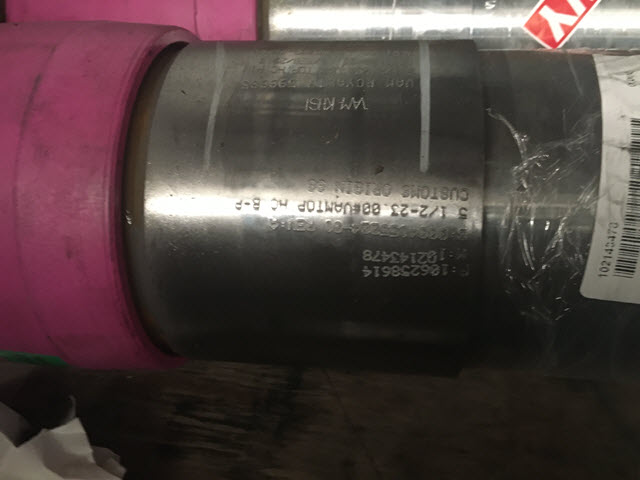character: (408, 262, 421, 280), (418, 203, 431, 221), (456, 205, 470, 221), (360, 264, 373, 281), (428, 262, 441, 279), (389, 247, 401, 265), (458, 185, 470, 203), (361, 247, 373, 264), (419, 183, 431, 200), (351, 200, 362, 218), (450, 185, 461, 203), (430, 185, 441, 203), (370, 248, 383, 263), (296, 198, 309, 213), (398, 250, 410, 266), (390, 263, 400, 282), (438, 203, 448, 222), (426, 248, 437, 265), (371, 264, 381, 282), (381, 262, 391, 280), (429, 203, 439, 221), (306, 198, 318, 213), (440, 261, 451, 277), (438, 185, 449, 201), (420, 262, 430, 279), (342, 200, 353, 215), (390, 202, 400, 218), (334, 200, 345, 214), (400, 203, 410, 218), (316, 199, 326, 214), (362, 200, 371, 216), (416, 250, 427, 263), (325, 200, 335, 214), (371, 202, 380, 217), (380, 251, 390, 264), (410, 203, 420, 216), (409, 250, 417, 265)
